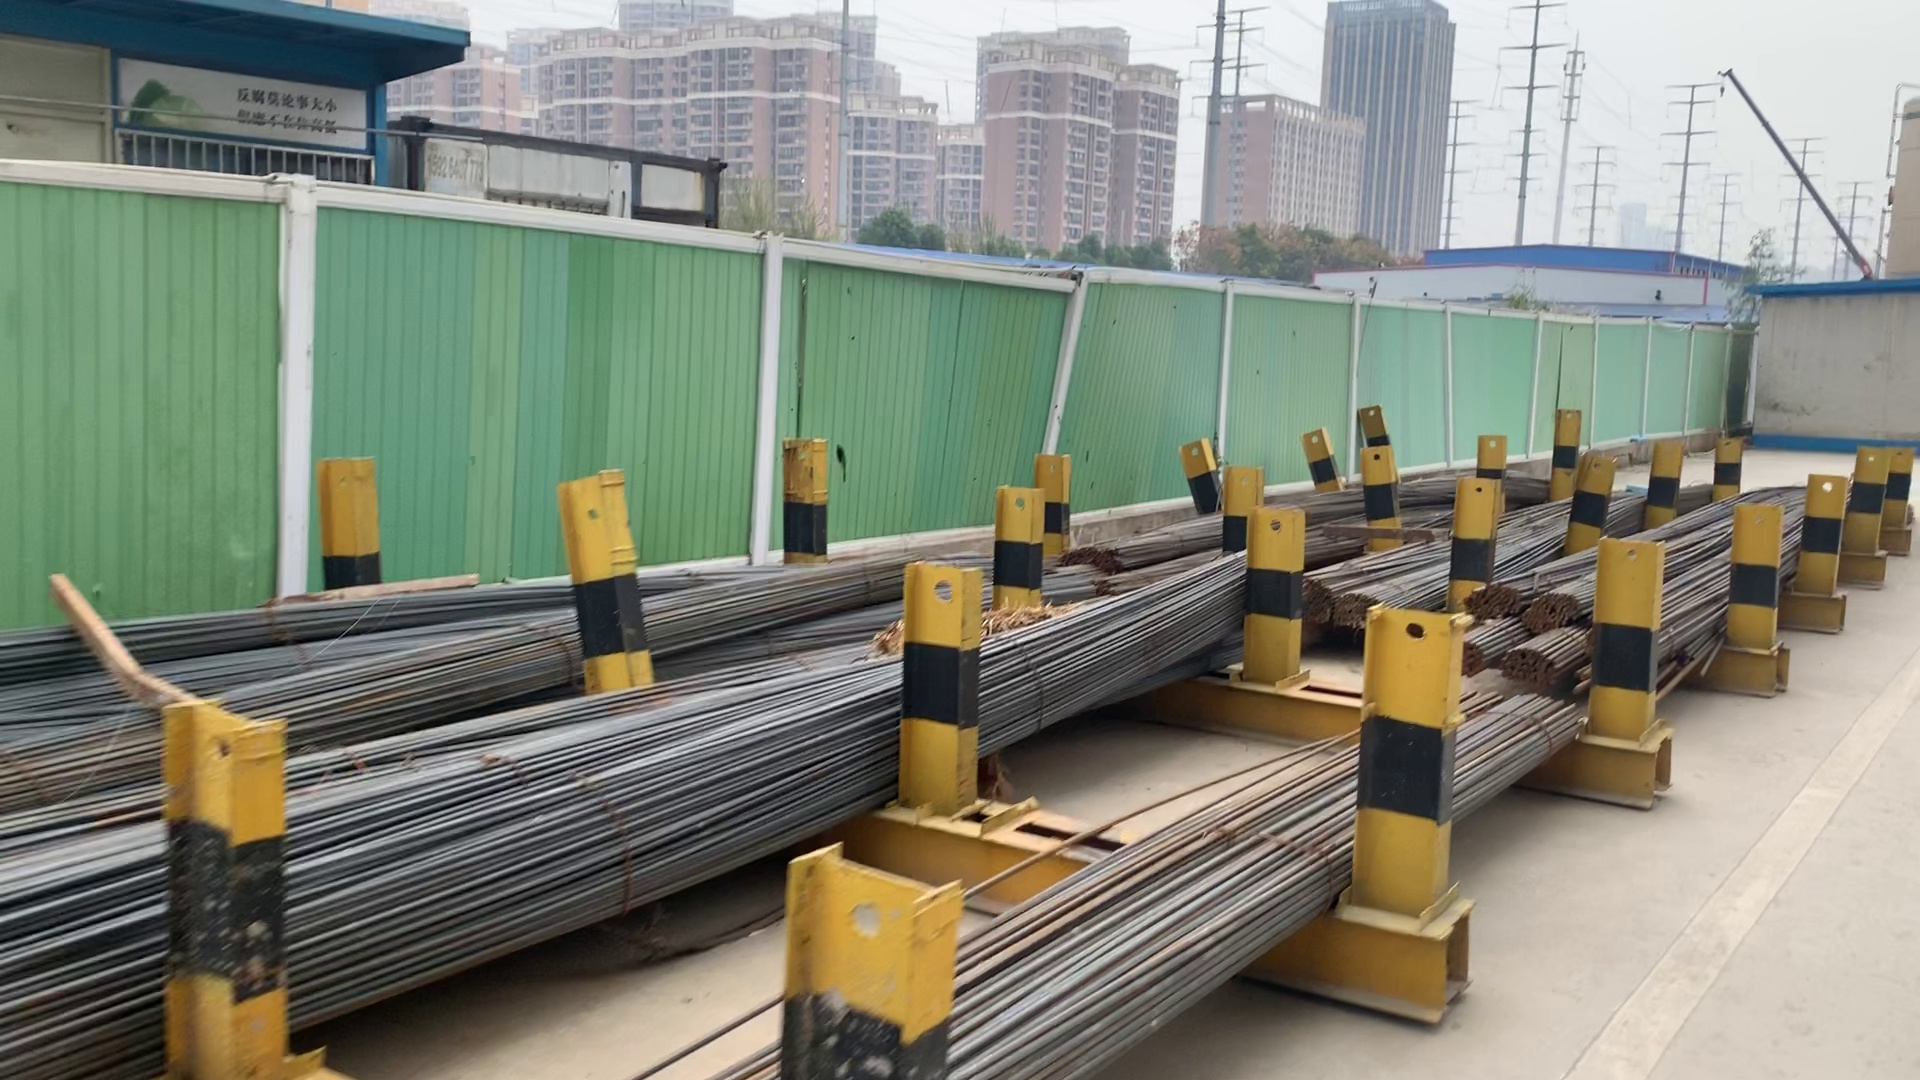rebar: (1501, 646, 1568, 684), (1520, 588, 1582, 629), (1460, 580, 1520, 615), (1335, 592, 1385, 630), (1300, 578, 1335, 629), (1462, 636, 1489, 676)
